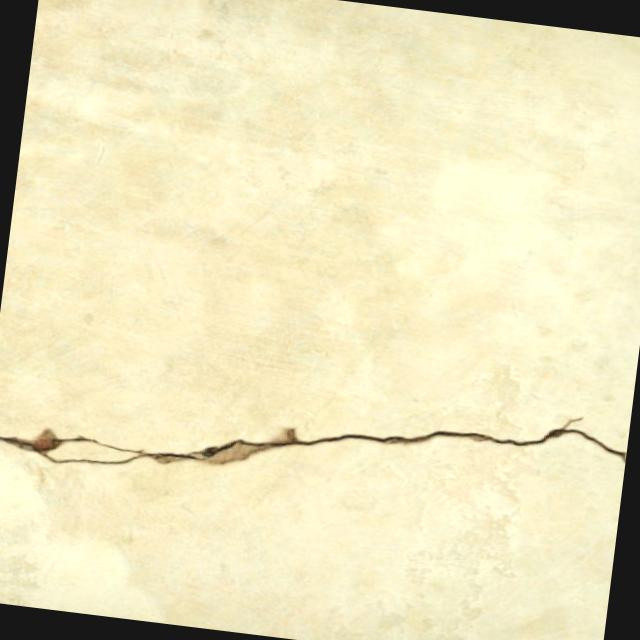crack: (0, 345, 628, 535)
